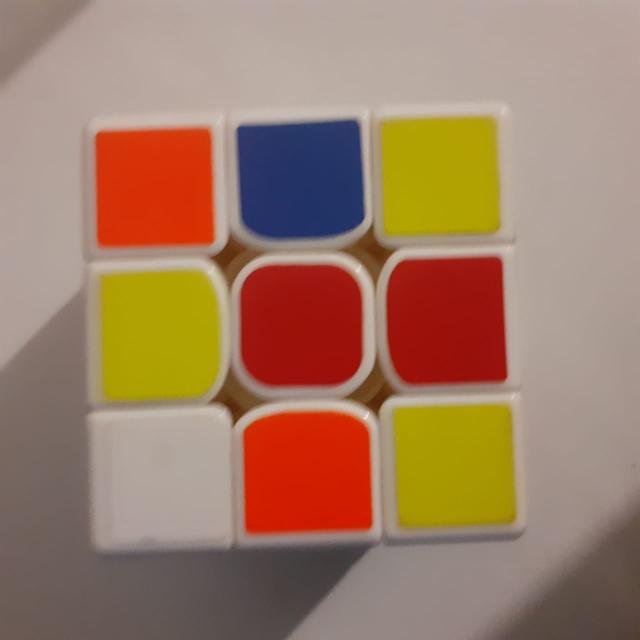Blue: (230, 120, 370, 246)
Orange: (238, 406, 378, 544), (88, 120, 220, 256)
Red: (233, 258, 371, 397), (376, 255, 516, 390)
White: (88, 414, 228, 552)
Yellow: (384, 397, 522, 538), (93, 266, 221, 406), (375, 111, 505, 243)
